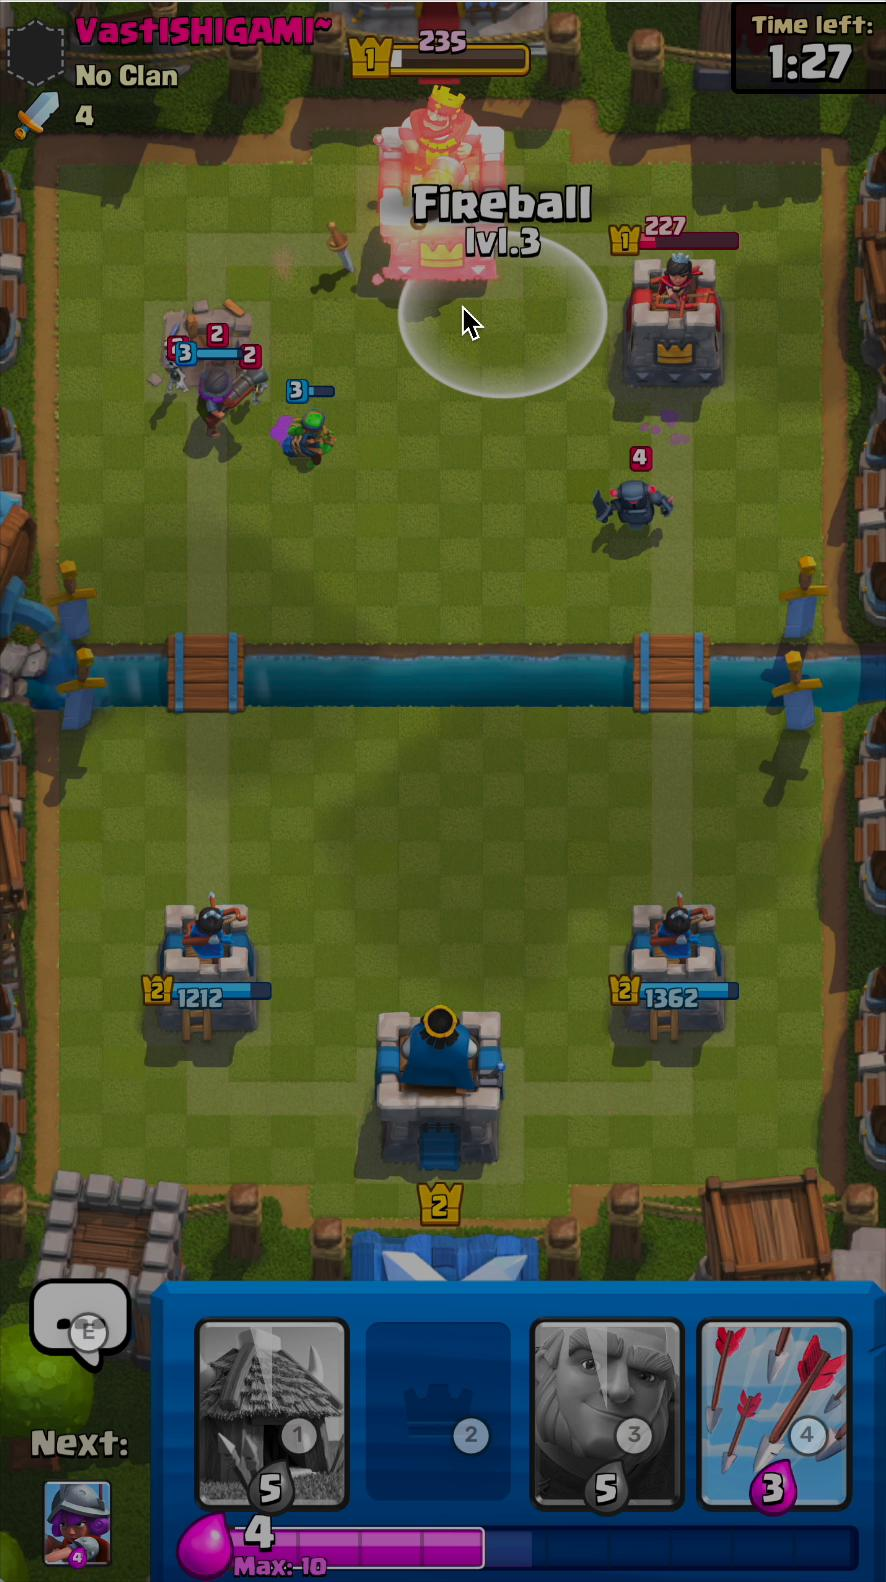gobelin_lances: (278, 412, 342, 476)
mini_PEKKA: (585, 476, 690, 543)
mousquetaire: (195, 367, 266, 439)
squelette: (157, 338, 194, 404)
